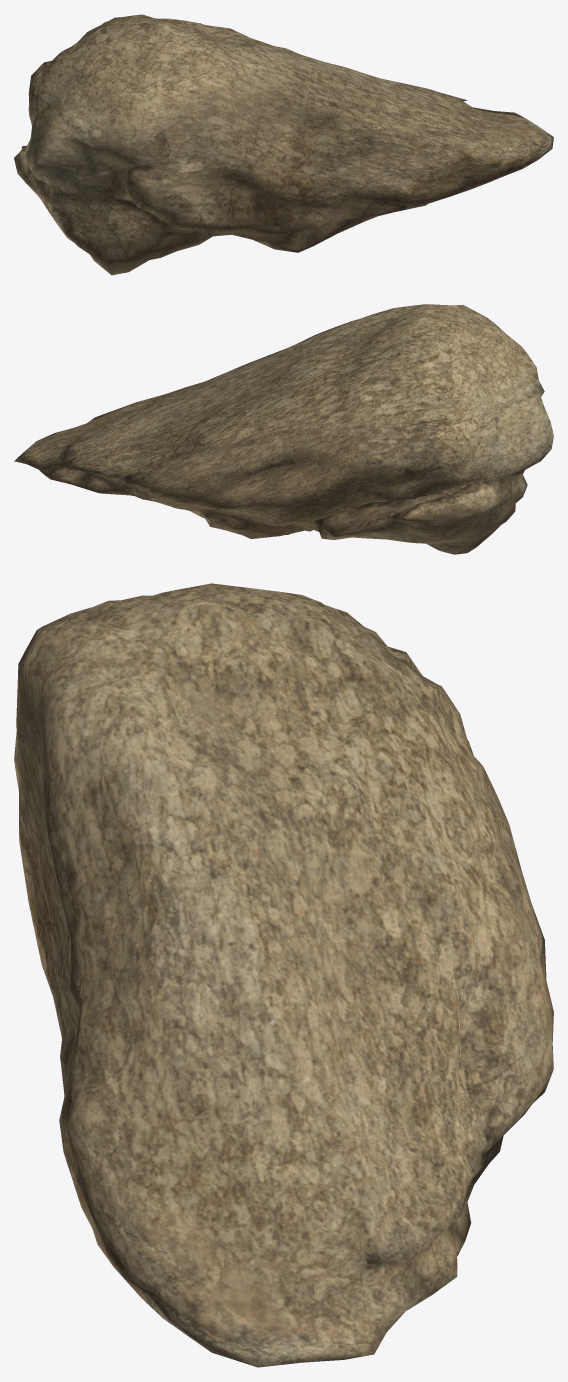
File: mm6_deco_boulder11.glb
3 views of the same model, one above another, from view 1: azimuth 30°, elevation 25°; view 2: azimuth 150°, elevation 25°; view 3: azimuth 270°, elevation 25° (orthographic). The views are drawn at different scales.
Parts seen in each view (by area): view 1: Boulder11; view 2: Boulder11; view 3: Boulder11.
Boxes of the visible parts, x1,y1,x2,y2 form: Boulder11: (14,14,553,275); Boulder11: (14,304,553,554); Boulder11: (14,583,553,1367).
Bounding box in the file's own units: 1.53 × 0.6431 × 0.7254.
Materials: 1 (1 with a texture image).
